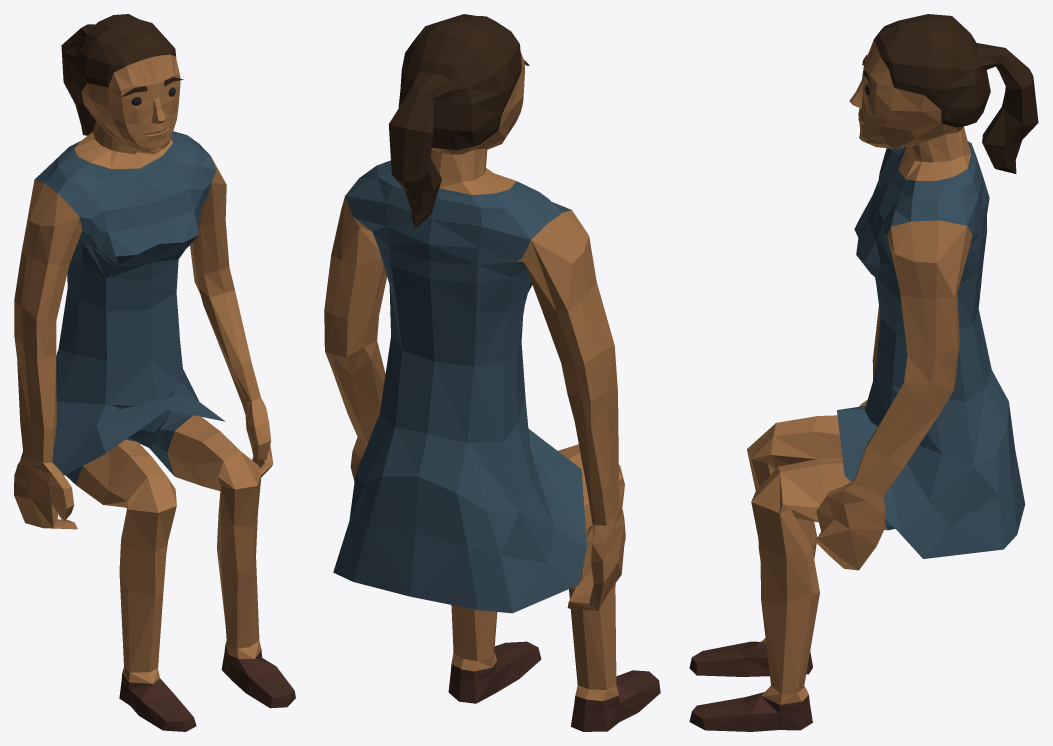
File: cg_dress_1.glb
The picture shows the model from 3 angles, left to right: view 1: azimuth 30°, elevation 25°; view 2: azimuth 150°, elevation 25°; view 3: azimuth 270°, elevation 25°; orthographic projection. The views are drawn at different scales.
Size of the model in its own units: 1.48 by 3.85 by 1.81.
